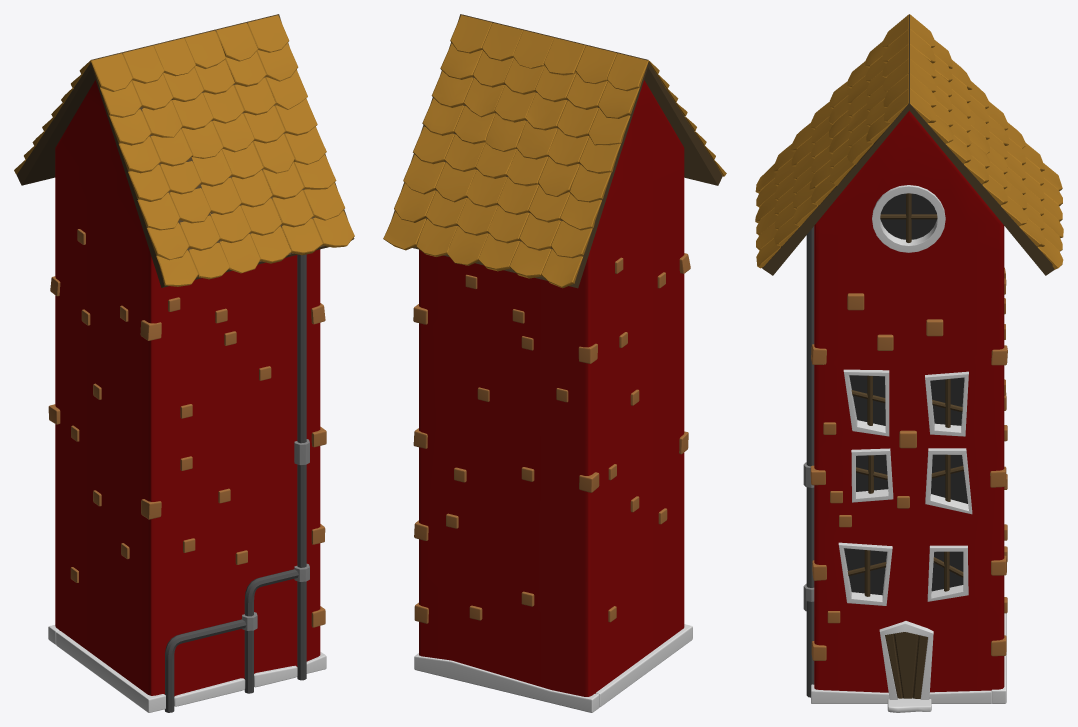
Rendered from weirdhouse_rampage.fbx.
The picture shows the model from 3 angles, left to right: view 1: azimuth 30°, elevation 25°; view 2: azimuth 150°, elevation 25°; view 3: azimuth 270°, elevation 25°; orthographic projection. The views are drawn at different scales.
Visible parts, largest first — view 1: pCube64; view 2: pCube64; view 3: pCube64.
Part boxes in pixels (x1,y1,x2,y2): pCube64: (14, 14, 354, 712); pCube64: (383, 14, 726, 712); pCube64: (755, 14, 1063, 712).
Bounding box in the file's own units: 0.1805 × 0.5202 × 0.2401.
